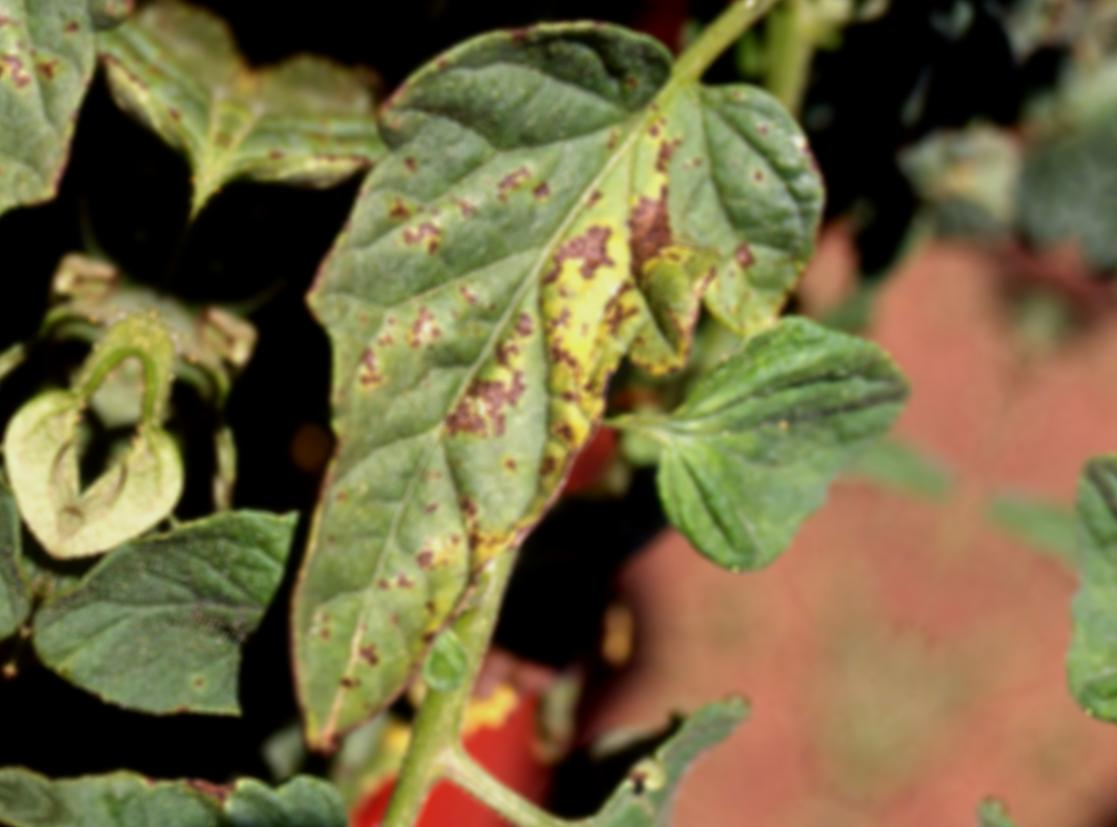Tomato leaf bacterial spot: (131, 0, 871, 827), (575, 232, 978, 641)
